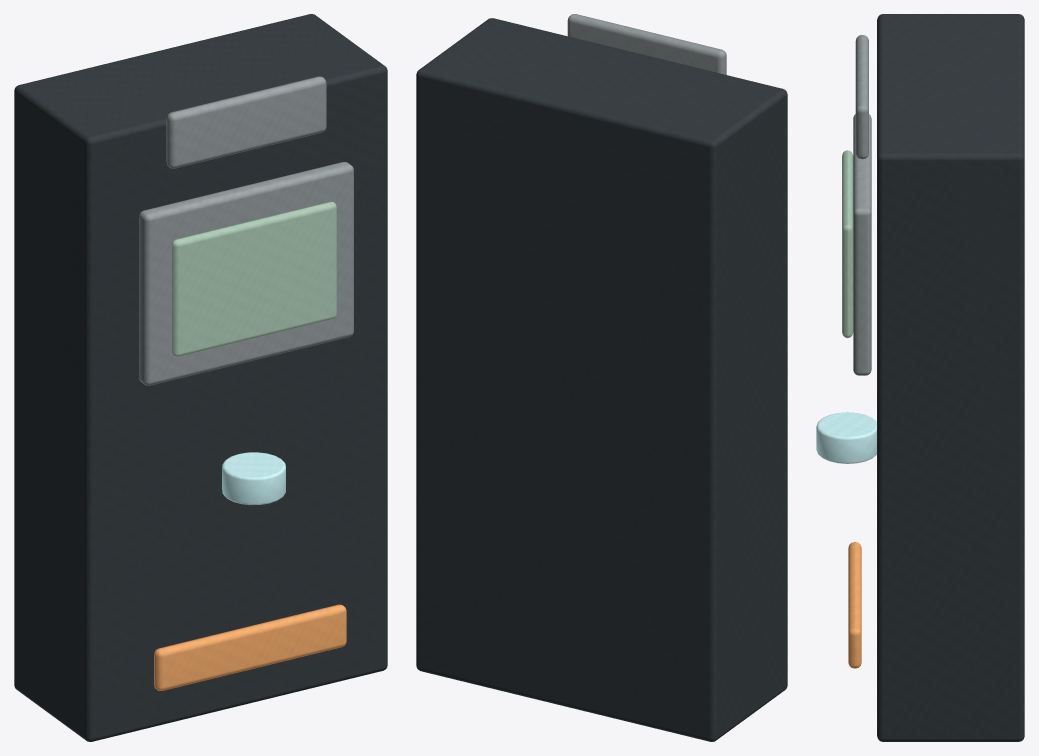
The model's file is RadiationMeter.glb.
The picture shows the model from 3 angles, left to right: view 1: azimuth 30°, elevation 25°; view 2: azimuth 150°, elevation 25°; view 3: azimuth 270°, elevation 25°; orthographic projection. The views are drawn at different scales.
Visible parts, largest first — view 1: RadiationMeter_Mesh; view 2: RadiationMeter_Mesh; view 3: RadiationMeter_Mesh.
Boxes of the visible parts, <box> form: RadiationMeter_Mesh: <box>14,14,387,741</box>; RadiationMeter_Mesh: <box>416,14,787,741</box>; RadiationMeter_Mesh: <box>816,14,1024,741</box>.
Bounding box in the file's own units: 0.46 × 0.9 × 0.2825.
Materials: 5 (5 with a texture image).
